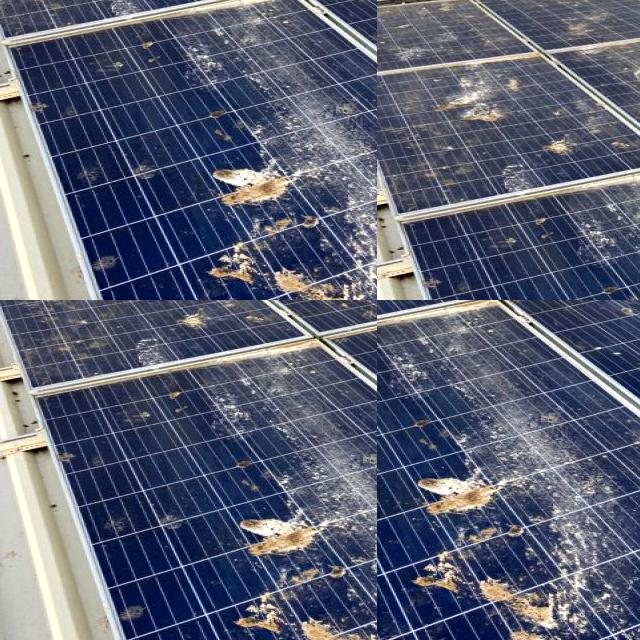bird: (398, 547, 616, 640), (393, 462, 535, 526), (520, 300, 587, 338), (438, 300, 511, 325), (377, 300, 416, 337), (377, 300, 425, 322)
crack: (0, 0, 377, 300)
